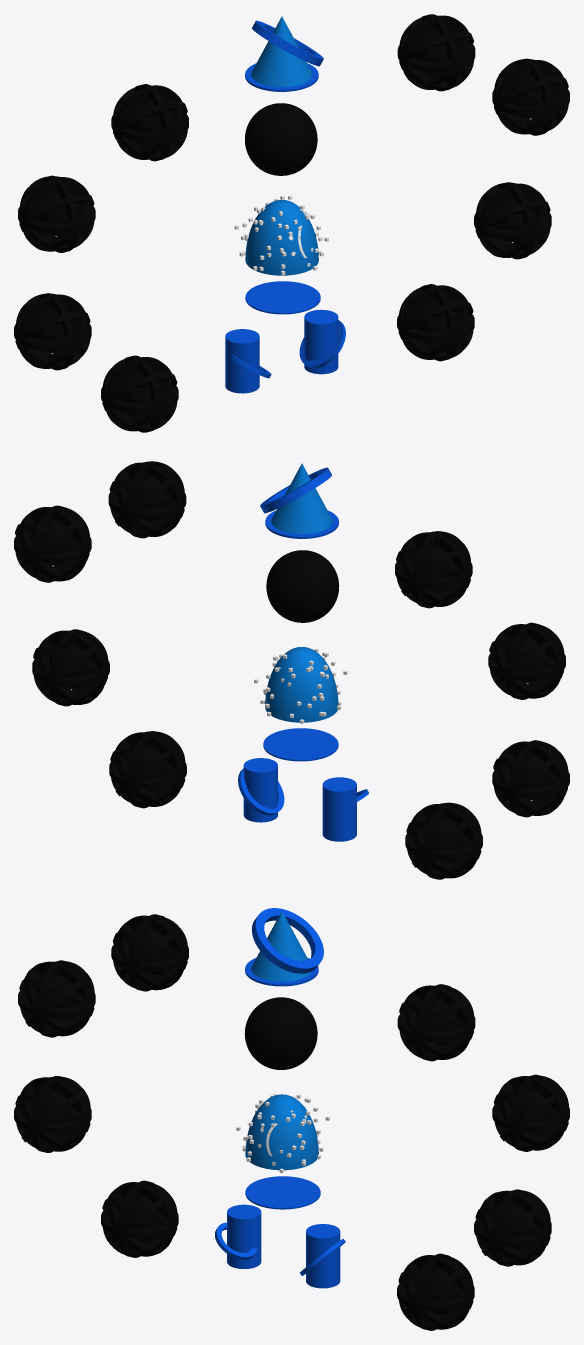
3 views of the same model, one above another, from view 1: azimuth 30°, elevation 25°; view 2: azimuth 150°, elevation 25°; view 3: azimuth 330°, elevation 25° (orthographic).
Visible parts, largest first — view 1: node_id422_149, node_id436_151, node_id107_146, node_id445_152, node_id485_154, node_id454_150, node_id476_153, node_id110_148, node_id494_155, Object_7, node_id537_157, node_id551_158 (+3 smaller); view 2: node_id485_154, node_id494_155, node_id476_153, node_id436_151, node_id445_152, node_id110_148, node_id454_150, node_id107_146, node_id422_149, Object_7, node_id537_157, node_id551_158 (+3 smaller); view 3: node_id422_149, node_id436_151, node_id107_146, node_id454_150, node_id485_154, node_id445_152, node_id110_148, node_id476_153, node_id494_155, Object_7, node_id554_159, node_id537_157 (+3 smaller).
Part boxes in pixels (left/top/right/bottom): node_id422_149: left=234, top=195, right=328, bottom=275; node_id436_151: left=474, top=182, right=551, bottom=259; node_id107_146: left=18, top=175, right=95, bottom=252; node_id445_152: left=14, top=293, right=91, bottom=370; node_id485_154: left=397, top=14, right=475, bottom=91; node_id454_150: left=492, top=58, right=569, bottom=135; node_id476_153: left=397, top=284, right=474, bottom=361; node_id110_148: left=111, top=84, right=188, bottom=161; node_id494_155: left=101, top=355, right=178, bottom=432; Object_7: left=245, top=103, right=317, bottom=175; node_id537_157: left=245, top=16, right=318, bottom=91; node_id551_158: left=299, top=309, right=345, bottom=374; node_id485_154: left=108, top=461, right=186, bottom=538; node_id494_155: left=405, top=802, right=482, bottom=879; node_id476_153: left=109, top=731, right=186, bottom=808; node_id436_151: left=32, top=629, right=109, bottom=706; node_id445_152: left=492, top=740, right=569, bottom=817; node_id110_148: left=395, top=531, right=472, bottom=608; node_id454_150: left=14, top=505, right=91, bottom=582; node_id107_146: left=488, top=622, right=565, bottom=699; node_id422_149: left=254, top=647, right=347, bottom=723; Object_7: left=266, top=550, right=339, bottom=622; node_id537_157: left=265, top=463, right=338, bottom=538; node_id551_158: left=238, top=758, right=284, bottom=822; node_id422_149: left=236, top=1093, right=329, bottom=1173; node_id436_151: left=474, top=1189, right=551, bottom=1266; node_id107_146: left=18, top=960, right=95, bottom=1037; node_id454_150: left=492, top=1074, right=569, bottom=1151; node_id485_154: left=397, top=984, right=475, bottom=1061; node_id445_152: left=14, top=1076, right=91, bottom=1152; node_id110_148: left=111, top=914, right=188, bottom=991; node_id476_153: left=397, top=1253, right=474, bottom=1330; node_id494_155: left=101, top=1180, right=178, bottom=1257; Object_7: left=244, top=997, right=317, bottom=1069; node_id554_159: left=215, top=1204, right=261, bottom=1268; node_id537_157: left=245, top=911, right=318, bottom=986.
Size of the model in its own units: 1 by 0.6663 by 0.1243.
Materials: 13 (13 with a texture image).
